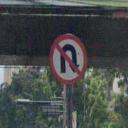NoVirarU: (45, 31, 90, 87)
